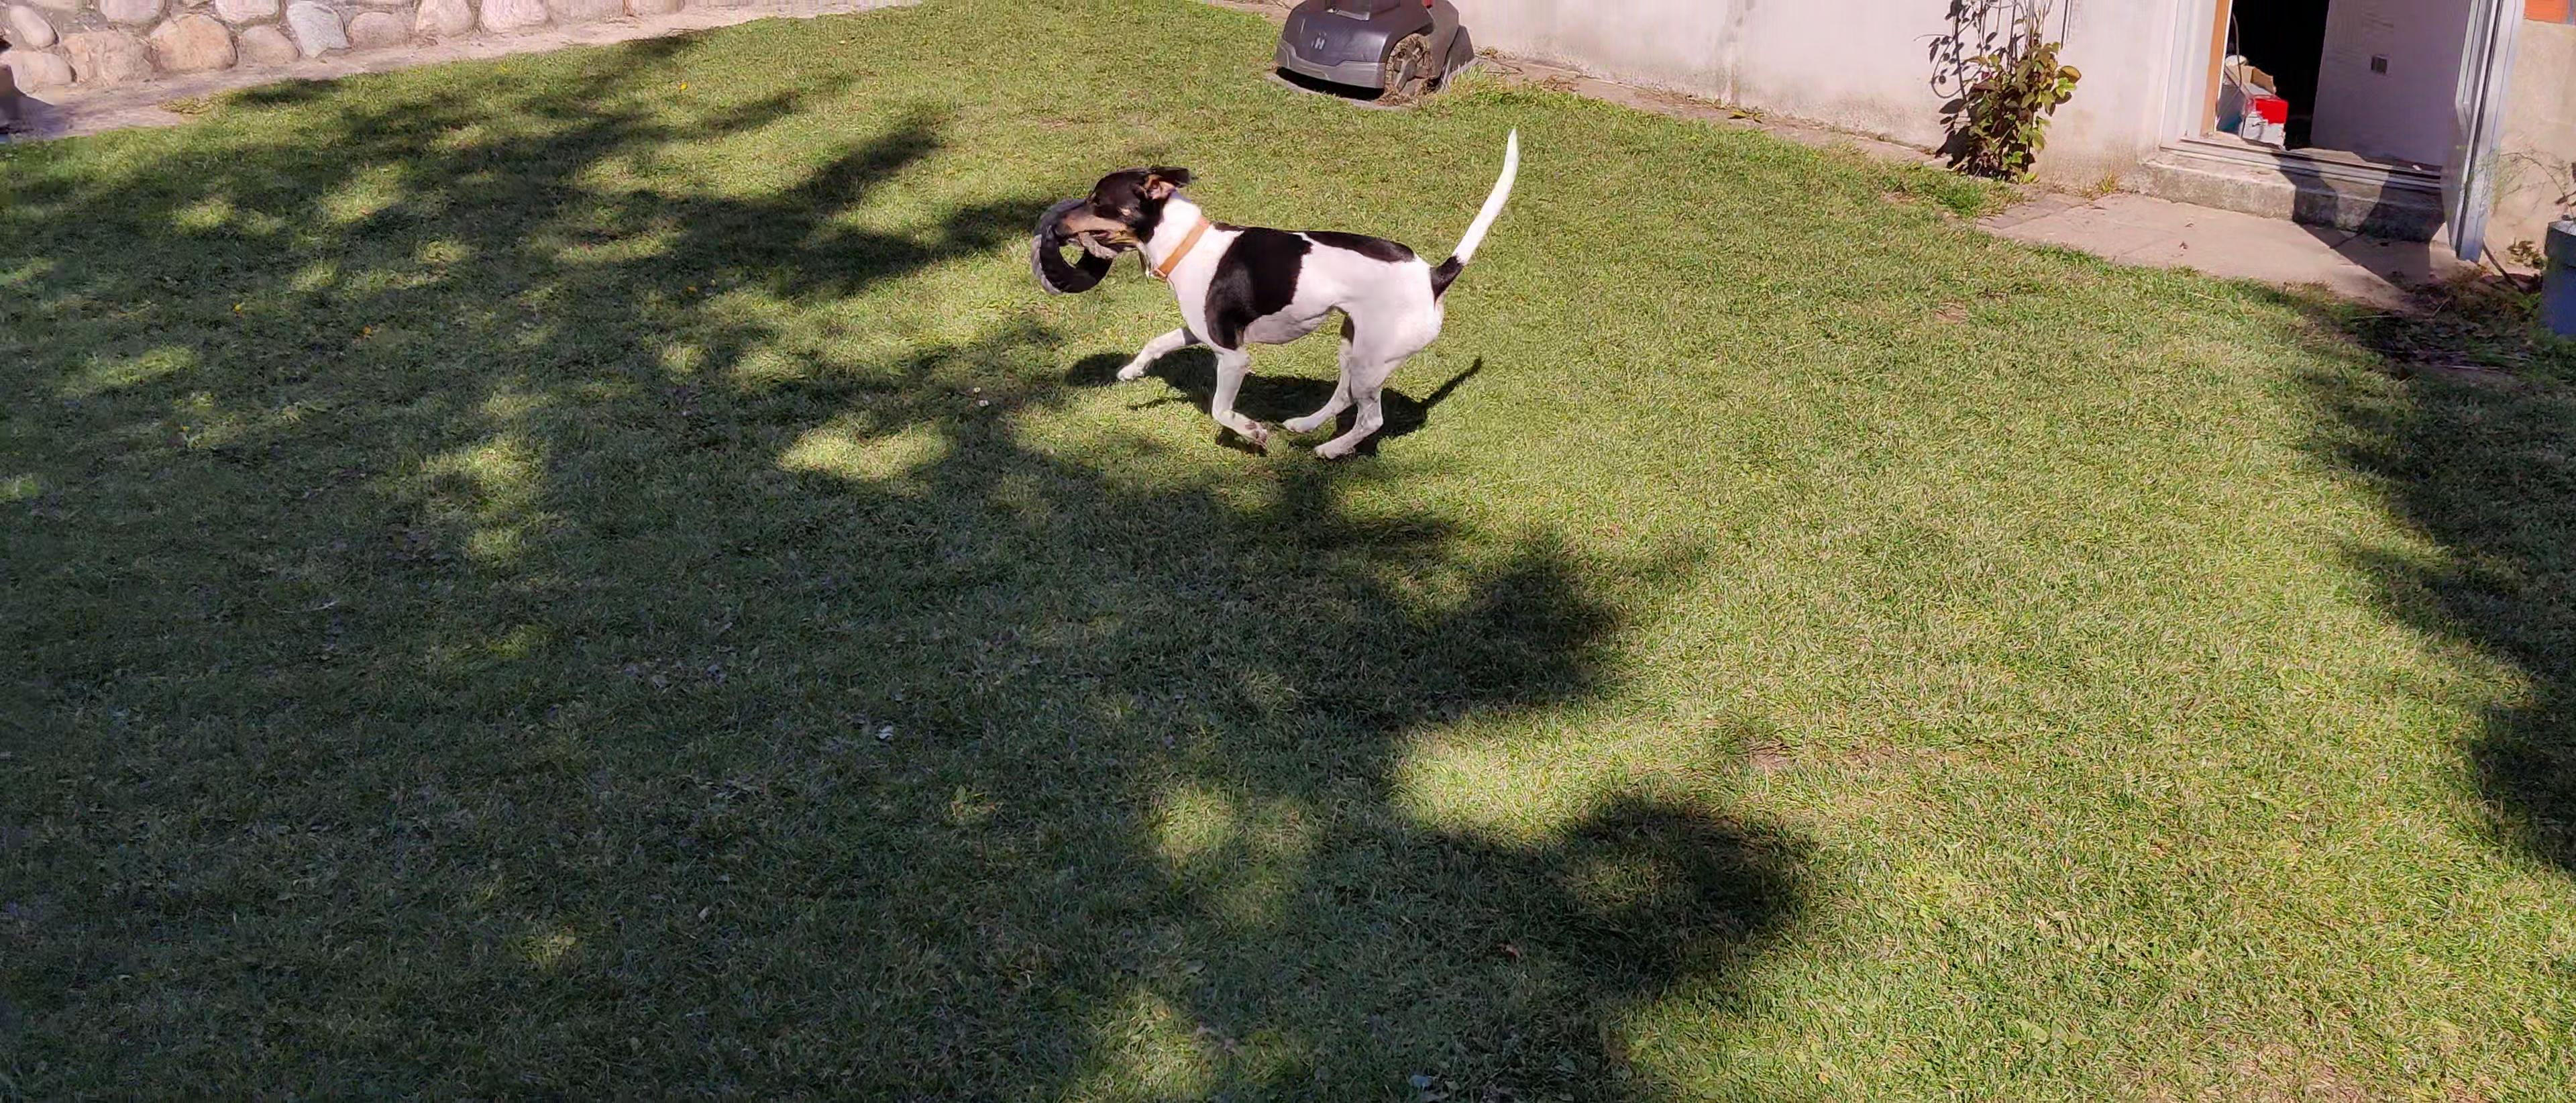Dog: (1045, 125, 1525, 464)
